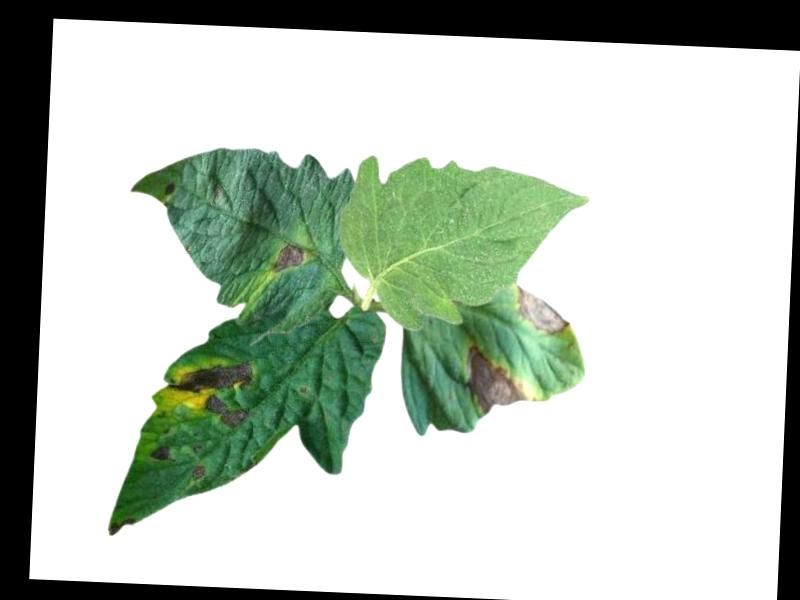Early_blight: (164, 358, 253, 429), (465, 346, 537, 420), (516, 285, 572, 335), (274, 241, 306, 276), (148, 444, 175, 462), (191, 465, 206, 483), (164, 183, 178, 198)
healthy: (332, 152, 589, 339)
